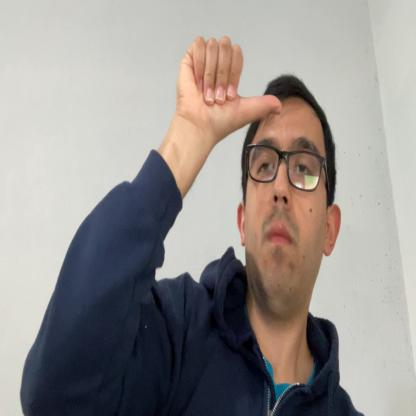A: (177, 37, 283, 138)
